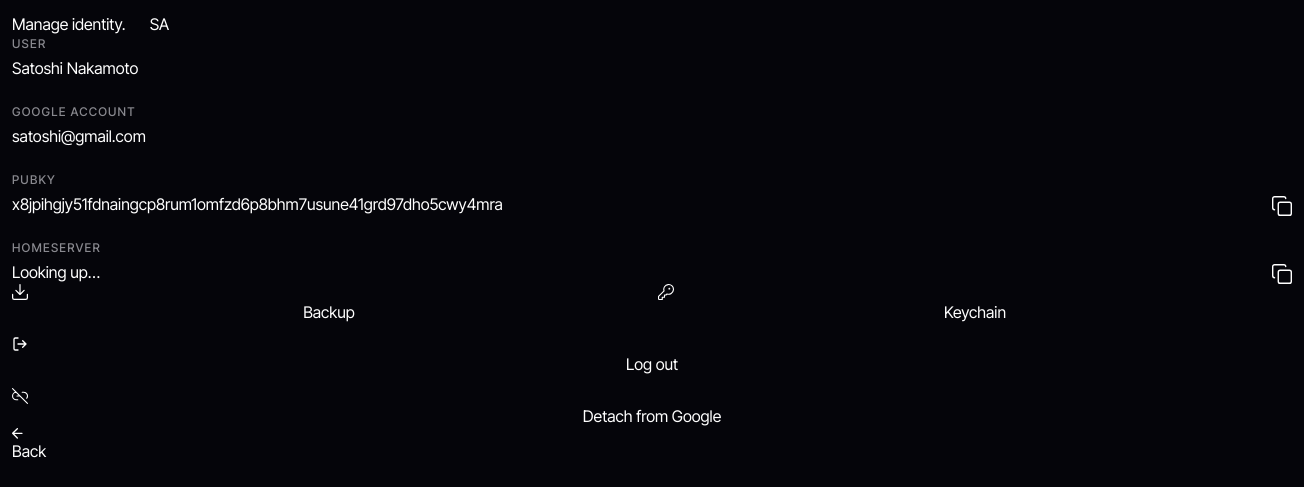
Test: IdentityManagement › shows a retryable error when local logout fails
The image size is (1304, 487).
What coordinates should you click on to do the following:
click the button "Log out"
I would click on:
 (652, 356)
Its box is x1=12 y1=336 x2=1292 y2=376.
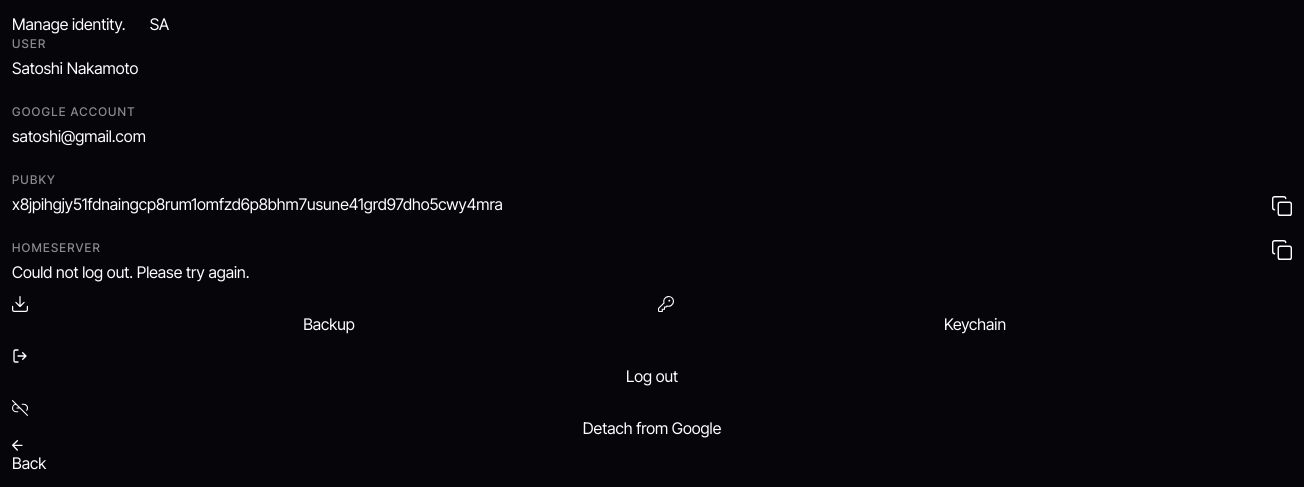
Now the text "Could not log out. Please try again." is shown, box x1=12 y1=262 x2=249 y2=282
